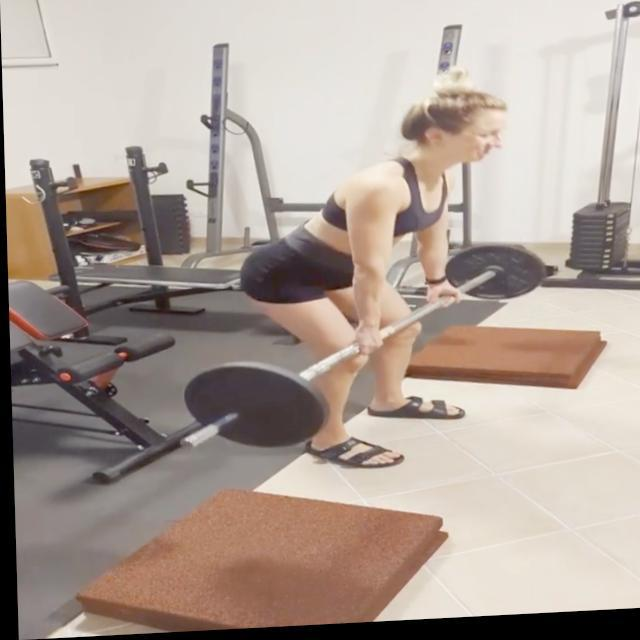barbell: (170, 359, 331, 462)
